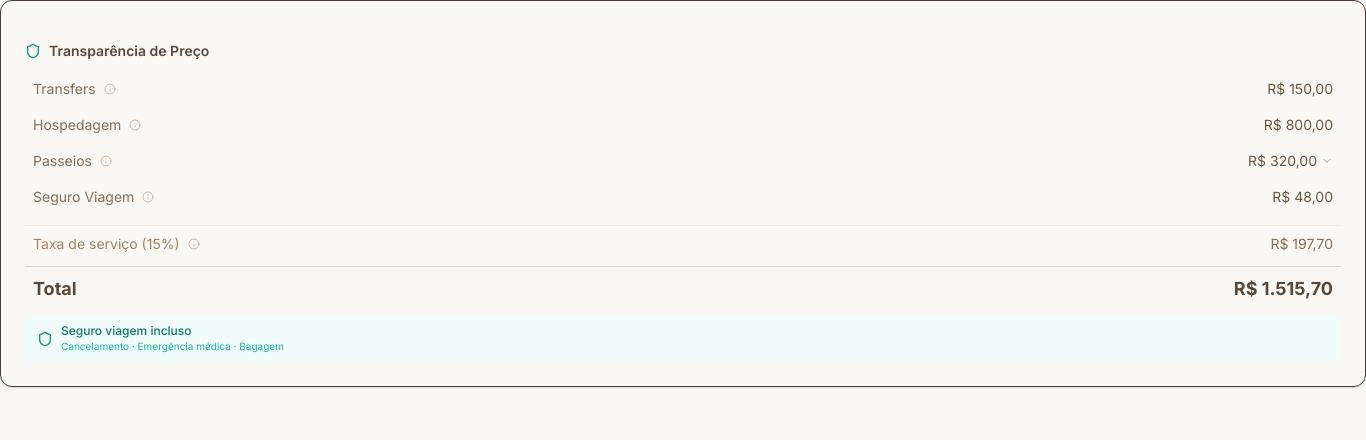
PriceTransparency › shows markup tooltip
Click the button with test id "tooltip-trigger-markup" at (194, 244), box [188,238,200,250]
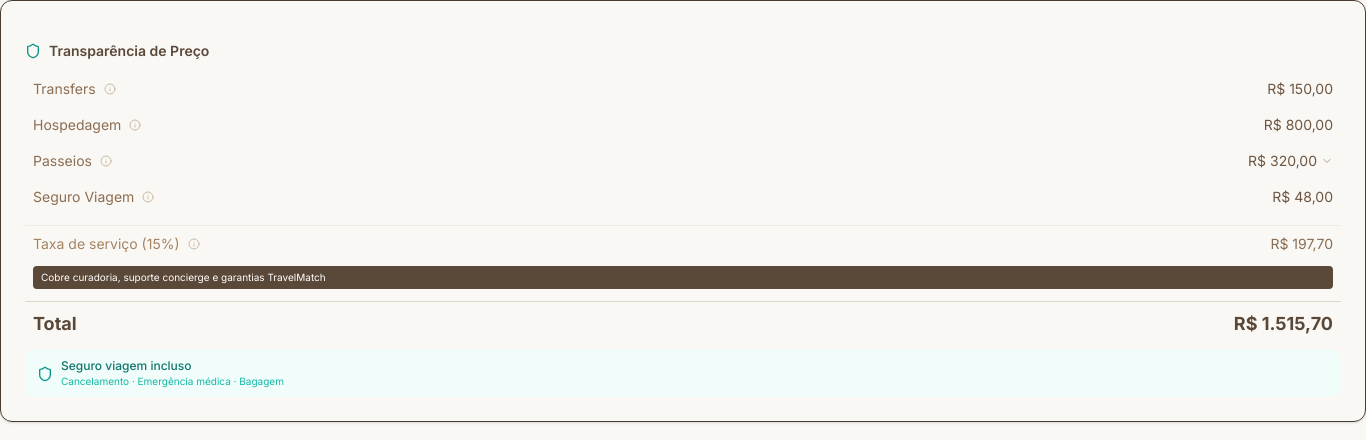
Expected: the text "Cobre curadoria, suporte concierge e garantias TravelMatch" is shown, [33,266,1333,289]
